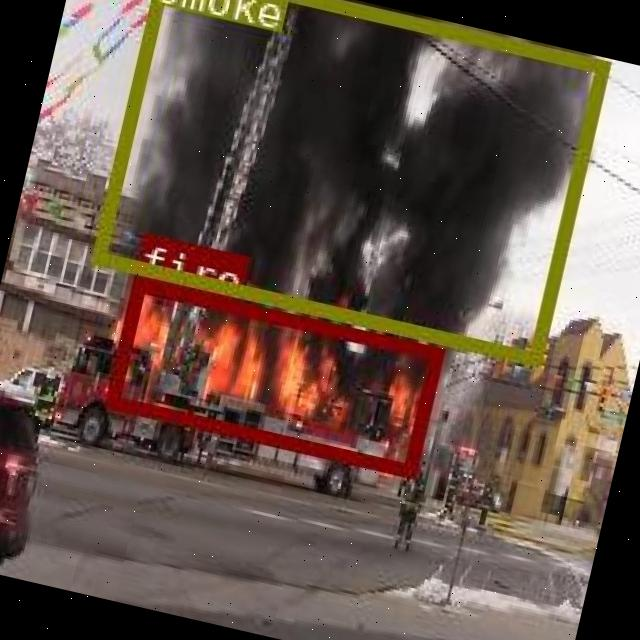fire: (104, 276, 441, 474)
smoke: (89, 0, 607, 363)
